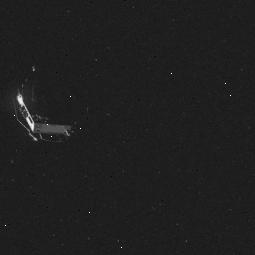lisa_pathfinder: (6, 62, 93, 154)
